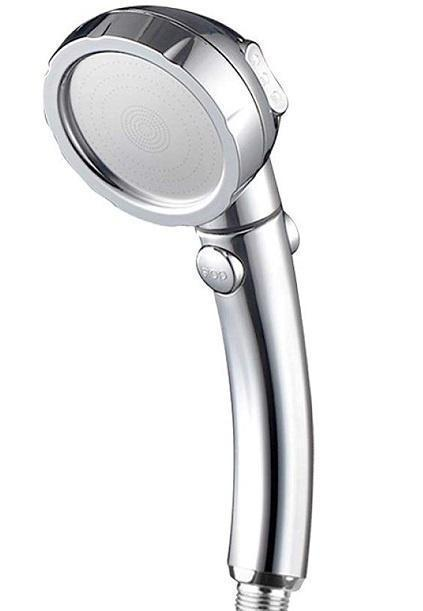Ducha: (41, 0, 316, 610)
